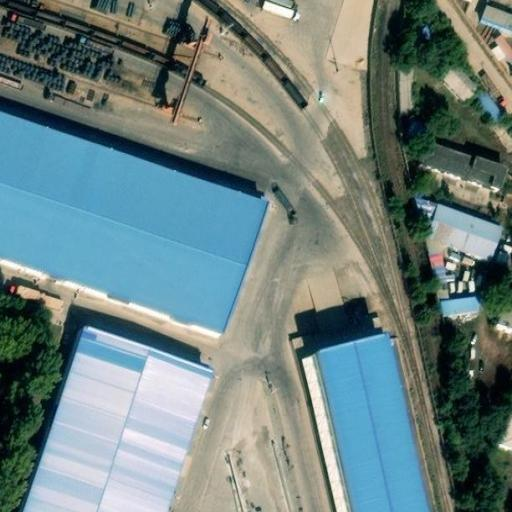building: (19, 333, 206, 512), (310, 356, 418, 512), (420, 209, 498, 266), (415, 148, 503, 196), (303, 263, 350, 330), (435, 55, 479, 100), (8, 275, 64, 307), (475, 290, 512, 337), (471, 83, 506, 121), (78, 51, 112, 85), (476, 7, 512, 36), (396, 59, 416, 110), (485, 35, 512, 69), (68, 83, 99, 112), (435, 297, 475, 318), (402, 112, 429, 139), (490, 238, 512, 267), (498, 415, 512, 452)
